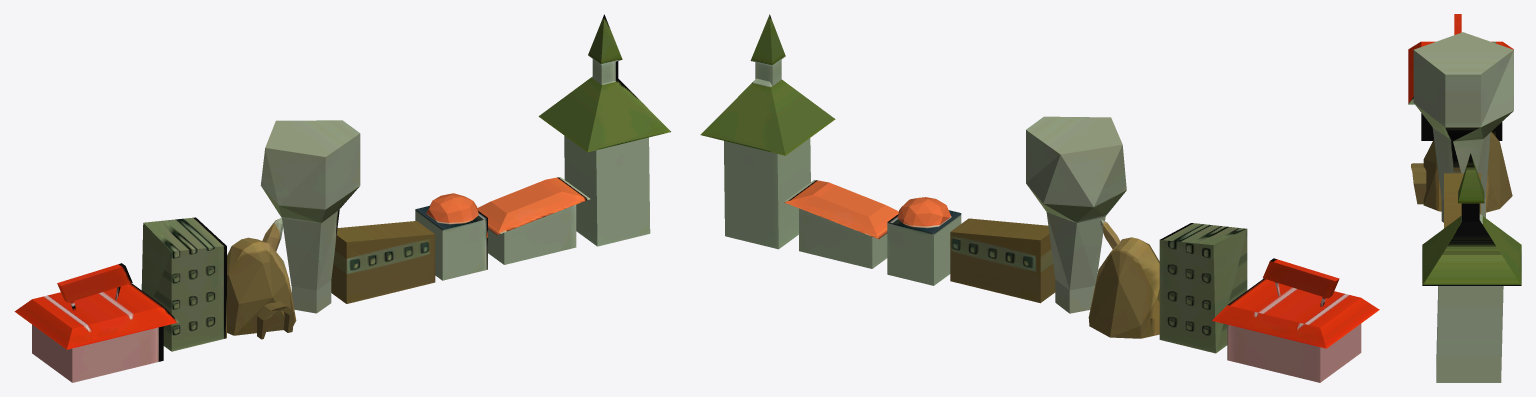
File: Town2.glb
3 renders of one model, left to right at view 1: azimuth 30°, elevation 25°; view 2: azimuth 150°, elevation 25°; view 3: azimuth 270°, elevation 25°, orthographic.
Visible parts, largest first — view 1: Town2; view 2: Town2; view 3: Town2.
Boxes of the visible parts, box(x1,y1,x2,y2) form: Town2: box(14, 14, 670, 382); Town2: box(700, 14, 1379, 382); Town2: box(1408, 14, 1521, 382).
Size of the model in its own units: 270 by 91.22 by 42.94.
1 material, 1 textured.
